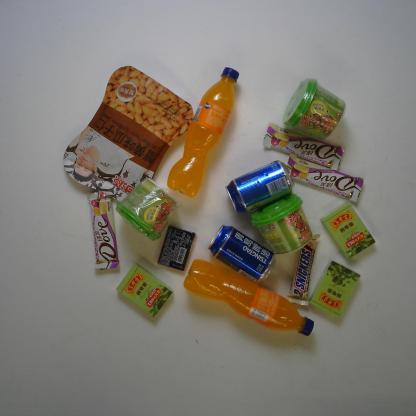Alcohol: (208, 225, 277, 285), (224, 158, 296, 215)
Candy: (320, 202, 377, 260), (308, 260, 362, 320), (115, 262, 172, 318)
Chocolate: (261, 122, 345, 172), (286, 154, 364, 203), (87, 190, 120, 271), (286, 234, 320, 306)
Dried Fruit: (63, 65, 194, 204)
Drink: (183, 258, 315, 338), (166, 66, 240, 199)
Gum: (157, 226, 195, 272)
Instant Drink: (114, 178, 181, 243), (282, 78, 347, 143), (250, 193, 314, 256)
